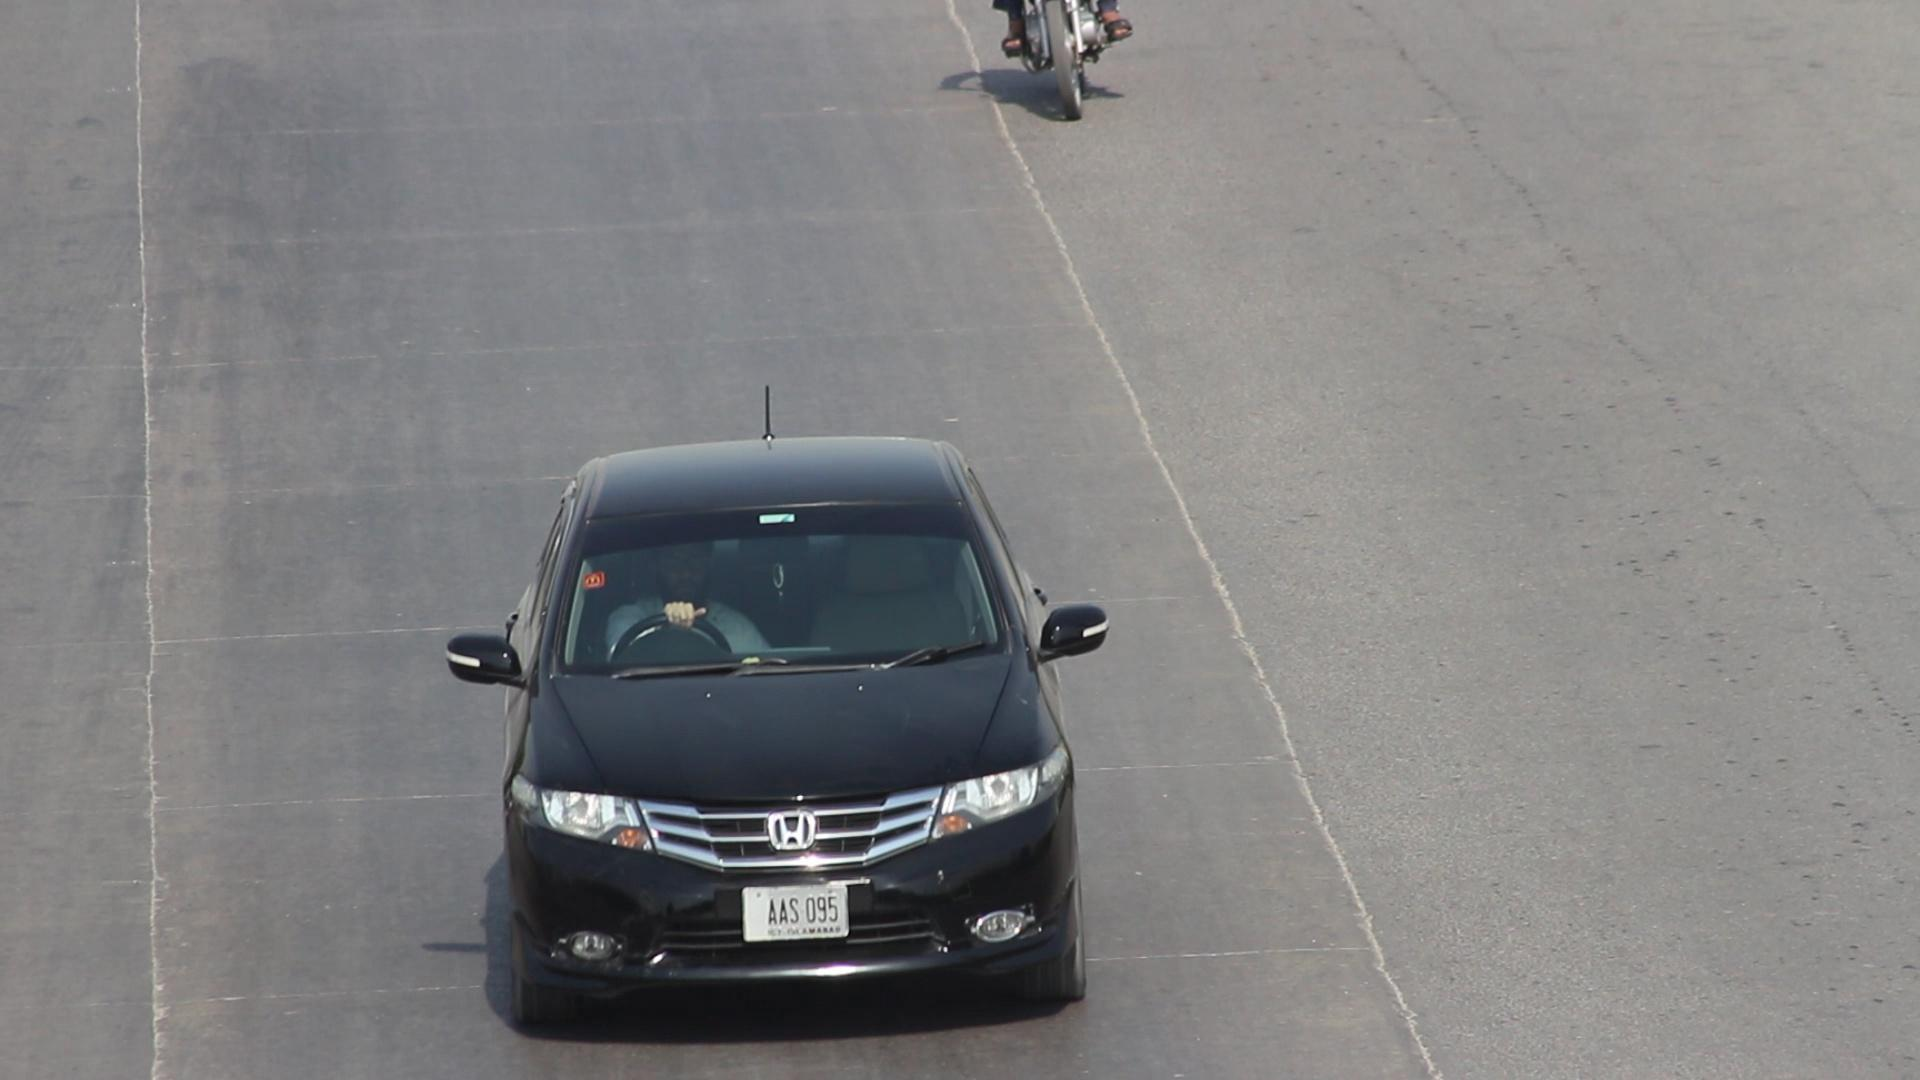windshield: (534, 493, 1017, 687)
